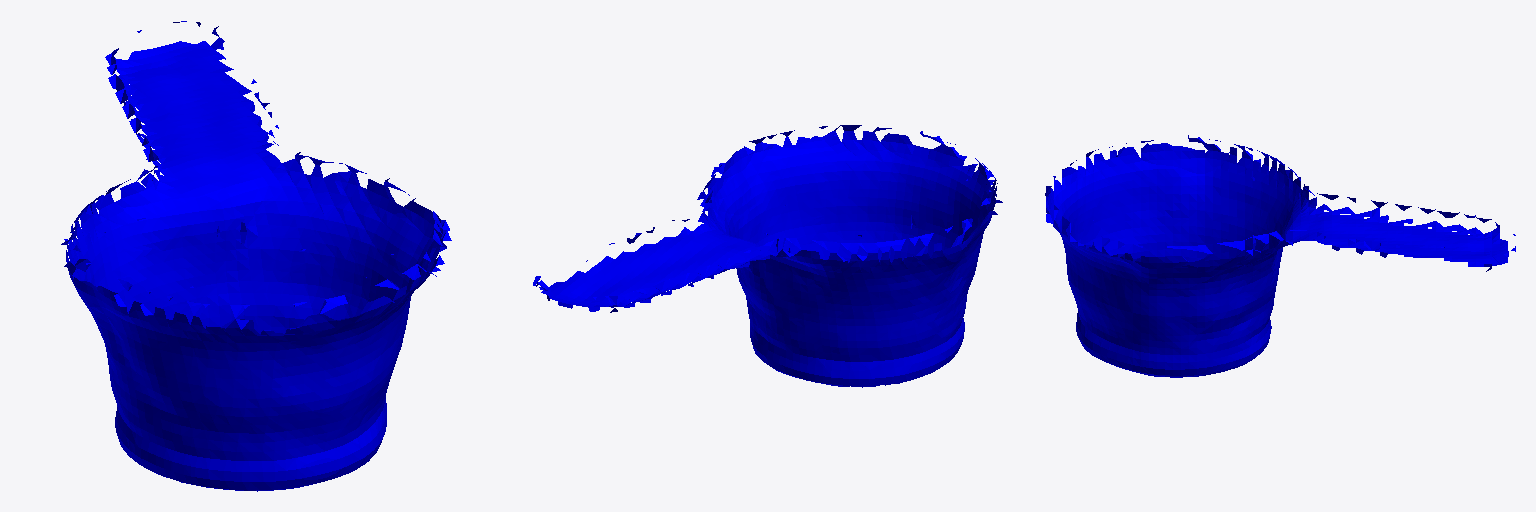
URDF robot description (scoop_1cup.urdf):
<?xml version="0.0" ?>
<robot name="scoop_1cup.urdf">
  <link name="baseLink">
    <contact>
      <friction_anchor/>
      <lateral_friction value="1.0"/>
    </contact>
    <inertial>
      <origin rpy="3.14 0 0" xyz="0 0 0"/>
       <mass value="1.0"/>
       <inertia ixx="1" ixy="0" ixz="0" iyy="1" iyz="0" izz="1"/>
    </inertial>
    <visual>
      <origin rpy="3.14 0 0" xyz="0 0 0"/>
      <geometry>
        <mesh filename="scoop_1cup.obj" scale="1 1 1"/>
      </geometry>
       <material name="blue">
        <color rgba="0 0 1 1"/>
      </material>
    </visual>
    <collision>
      <origin rpy="3.14 0 0" xyz="0 0 0"/>
      <geometry>
        <mesh filename="scoop_1cup.obj" scale="1 1 1"/>
      </geometry>
    </collision>
  </link>
</robot>

--- Render facts (derived) ---
Views: 3 orthographic renders of the robot side by side, from view 1: azimuth 30°, elevation 25°; view 2: azimuth 150°, elevation 25°; view 3: azimuth 270°, elevation 25°.
Model scoop_1cup.urdf with 1 links and 0 joints (none), rooted at baseLink, posed every joint at zero.
Visible links, largest first — view 1: baseLink; view 2: baseLink; view 3: baseLink.
Link boxes in pixels (left/top/right/bottom): baseLink: left=61, top=21, right=451, bottom=491; baseLink: left=533, top=125, right=1002, bottom=387; baseLink: left=1045, top=135, right=1515, bottom=377.
Size in the robot's own frame: 0.0992 by 0.1629 by 0.0592 metres.
1 mesh visuals loaded from 1 distinct referenced files (1 OBJ).